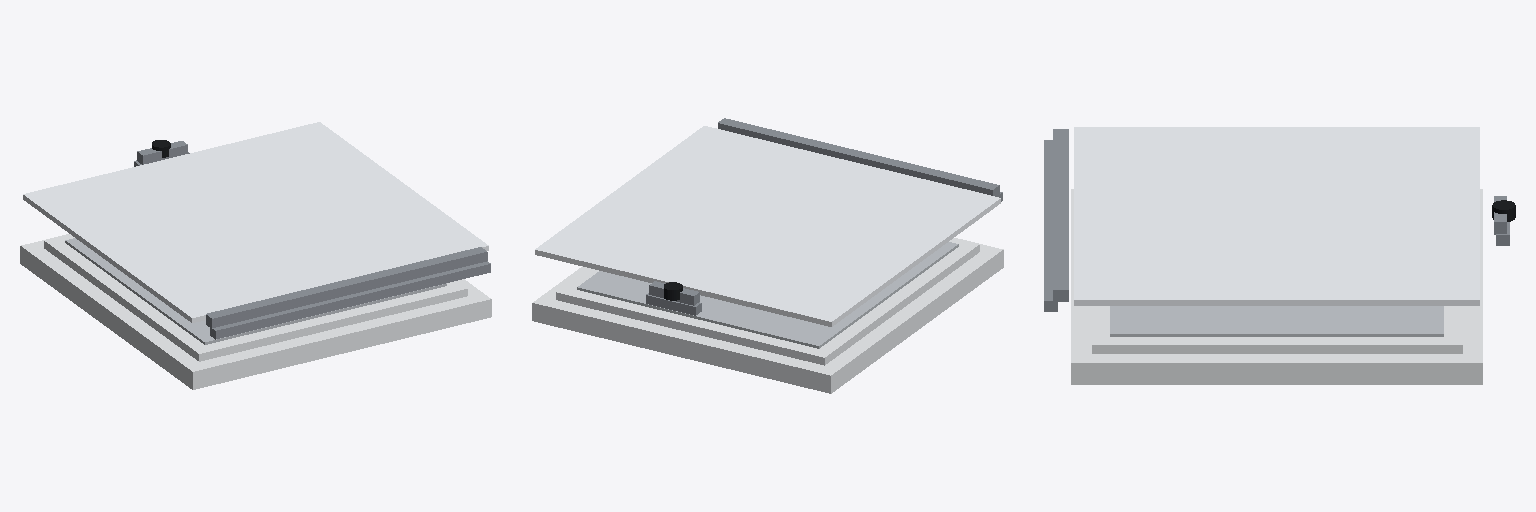
The robot description file, URDF, robot "hinged_ceiling_light_fixture":
<robot name="hinged_ceiling_light_fixture">
  <link name="ceiling_canopy">
    <inertial>
      <origin xyz="0 0 0.0115" rpy="0 0 0" />
      <mass value="0.9" />
      <inertia ixx="0.00366967" ixy="0" ixz="0" iyy="0.00366967" iyz="0" izz="0.00726" />
      </inertial>
    <visual name="ceiling_gasket">
      <origin xyz="0 0 0.0005" rpy="0 0 0" />
      <geometry>
        <box size="0.206 0.206 0.001" />
        </geometry>
      <material name="black_polymer">
        <color rgba="0.14 0.15 0.16 1" />
        </material>
      </visual>
    <visual name="junction_box_cover">
      <origin xyz="0 0 0.009" rpy="0 0 0" />
      <geometry>
        <box size="0.16 0.16 0.018" />
        </geometry>
      <material name="painted_white_metal">
        <color rgba="0.94 0.95 0.96 1" />
        </material>
      </visual>
    <visual name="canopy_trim_plate">
      <origin xyz="0 0 0.02" rpy="0 0 0" />
      <geometry>
        <box size="0.22 0.22 0.006" />
        </geometry>
      <material name="satin_aluminum">
        <color rgba="0.78 0.8 0.82 1" />
        </material>
      </visual>
    <visual name="left_mount_screw">
      <origin xyz="-0.048 0 0.004" rpy="0 0 0" />
      <geometry>
        <cylinder radius="0.007" length="0.003" />
        </geometry>
      <material name="brushed_steel">
        <color rgba="0.6 0.62 0.65 1" />
        </material>
      </visual>
    <visual name="right_mount_screw">
      <origin xyz="0.048 0 0.004" rpy="0 0 0" />
      <geometry>
        <cylinder radius="0.007" length="0.003" />
        </geometry>
      <material name="brushed_steel">
        <color rgba="0.6 0.62 0.65 1" />
        </material>
      </visual>
    </link>
  <link name="housing">
    <inertial>
      <origin xyz="0 0 0.0365" rpy="0 0 0" />
      <mass value="3.6" />
      <inertia ixx="0.0545187" ixy="0" ixz="0" iyy="0.0545187" iyz="0" izz="0.10584" />
      </inertial>
    <visual name="upper_pan">
      <origin xyz="0 0 0.0105" rpy="0 0 0" />
      <geometry>
        <box size="0.358 0.358 0.021" />
        </geometry>
      <material name="painted_white_metal">
        <color rgba="0.94 0.95 0.96 1" />
        </material>
      </visual>
    <visual name="side_frame">
      <origin xyz="0 0 0.02" rpy="0 0 0" />
      <geometry>
        <mesh filename="assets/meshes/housing_frame.obj" />
        </geometry>
      <material name="painted_white_metal">
        <color rgba="0.94 0.95 0.96 1" />
        </material>
      </visual>
    <visual name="trim_bezel">
      <origin xyz="0 0 0.054" rpy="0 0 0" />
      <geometry>
        <mesh filename="assets/meshes/bezel_ring.obj" />
        </geometry>
      <material name="satin_aluminum">
        <color rgba="0.78 0.8 0.82 1" />
        </material>
      </visual>
    <visual name="retaining_lip">
      <origin xyz="0 0 0.067" rpy="0 0 0" />
      <geometry>
        <mesh filename="assets/meshes/retaining_lip.obj" />
        </geometry>
      <material name="painted_white_metal">
        <color rgba="0.94 0.95 0.96 1" />
        </material>
      </visual>
    <visual name="reflector_pan">
      <origin xyz="0 0 0.025" rpy="0 0 0" />
      <geometry>
        <box size="0.322 0.322 0.01" />
        </geometry>
      <material name="painted_white_metal">
        <color rgba="0.94 0.95 0.96 1" />
        </material>
      </visual>
    <visual name="led_tray">
      <origin xyz="0 0 0.031" rpy="0 0 0" />
      <geometry>
        <box size="0.29 0.29 0.004" />
        </geometry>
      <material name="satin_aluminum">
        <color rgba="0.78 0.8 0.82 1" />
        </material>
      </visual>
    <visual name="driver_cover">
      <origin xyz="0 0 0.037" rpy="0 0 0" />
      <geometry>
        <box size="0.09 0.09 0.016" />
        </geometry>
      <material name="painted_white_metal">
        <color rgba="0.94 0.95 0.96 1" />
        </material>
      </visual>
    <visual name="hinge_rail">
      <origin xyz="0 -0.196 0.069" rpy="0 0 0" />
      <geometry>
        <box size="0.33 0.012 0.01" />
        </geometry>
      <material name="brushed_steel">
        <color rgba="0.6 0.62 0.65 1" />
        </material>
      </visual>
    <visual name="latch_strike">
      <origin xyz="0 0.196 0.069" rpy="0 0 0" />
      <geometry>
        <box size="0.06 0.012 0.01" />
        </geometry>
      <material name="brushed_steel">
        <color rgba="0.6 0.62 0.65 1" />
        </material>
      </visual>
    <visual name="left_hinge_cap">
      <origin xyz="-0.118 -0.196 0.069" rpy="0 0 0" />
      <geometry>
        <cylinder radius="0.006" length="0.01" />
        </geometry>
      <material name="brushed_steel">
        <color rgba="0.6 0.62 0.65 1" />
        </material>
      </visual>
    <visual name="right_hinge_cap">
      <origin xyz="0.118 -0.196 0.069" rpy="0 0 0" />
      <geometry>
        <cylinder radius="0.006" length="0.01" />
        </geometry>
      <material name="brushed_steel">
        <color rgba="0.6 0.62 0.65 1" />
        </material>
      </visual>
    </link>
  <link name="access_panel">
    <inertial>
      <origin xyz="0 0.194 0.01" rpy="0 0 0" />
      <mass value="1.1" />
      <inertia ixx="0.0138365" ixy="0" ixz="0" iyy="0.0141225" iyz="0" izz="0.0278857" />
      </inertial>
    <visual name="hinge_leaf">
      <origin xyz="0 0.006 0.006" rpy="0 0 0" />
      <geometry>
        <box size="0.33 0.014 0.012" />
        </geometry>
      <material name="brushed_steel">
        <color rgba="0.6 0.62 0.65 1" />
        </material>
      </visual>
    <visual name="service_frame">
      <origin xyz="0 0.194 0" rpy="0 0 0" />
      <geometry>
        <mesh filename="assets/meshes/access_frame.obj" />
        </geometry>
      <material name="satin_aluminum">
        <color rgba="0.78 0.8 0.82 1" />
        </material>
      </visual>
    <visual name="diffuser_panel">
      <origin xyz="0 0.194 0.005" rpy="0 0 0" />
      <geometry>
        <box size="0.356 0.352 0.006" />
        </geometry>
      <material name="frosted_acrylic">
        <color rgba="0.96 0.97 0.99 0.48" />
        </material>
      </visual>
    <visual name="latch_tab">
      <origin xyz="0 0.388 0.006" rpy="0 0 0" />
      <geometry>
        <box size="0.054 0.012 0.012" />
        </geometry>
      <material name="brushed_steel">
        <color rgba="0.6 0.62 0.65 1" />
        </material>
      </visual>
    <visual name="finger_pull">
      <origin xyz="0 0.391 0.01" rpy="0 0 0" />
      <geometry>
        <cylinder radius="0.01" length="0.012" />
        </geometry>
      <material name="black_polymer">
        <color rgba="0.14 0.15 0.16 1" />
        </material>
      </visual>
    </link>
  <joint name="canopy_to_housing" type="fixed">
    <origin xyz="0 0 0.023" rpy="0 0 0" />
    <parent link="ceiling_canopy" />
    <child link="housing" />
    </joint>
  <joint name="service_hinge" type="revolute">
    <origin xyz="0 -0.194 0.073" rpy="0 0 0" />
    <parent link="housing" />
    <child link="access_panel" />
    <axis xyz="1 0 0" />
    <limit effort="10" velocity="1.5" lower="0" upper="1.55" />
    </joint>
  </robot>

--- Facts derived from the render (not from the file) ---
Views: 3 orthographic renders of the robot side by side, from view 1: azimuth 30°, elevation 25°; view 2: azimuth 150°, elevation 25°; view 3: azimuth 270°, elevation 25°.
Model hinged_ceiling_light_fixture with 3 links and 2 joints (1 revolute, 1 fixed), rooted at ceiling_canopy, posed every joint at zero.
Links seen in each view (by area): view 1: access_panel, housing; view 2: access_panel, housing; view 3: access_panel, housing.
Link boxes in pixels (x1,y1,x2,y2): access_panel: (23, 122, 488, 327); housing: (20, 152, 491, 389); access_panel: (535, 118, 1000, 326); housing: (532, 192, 1003, 393); access_panel: (1053, 127, 1515, 305); housing: (1044, 140, 1509, 384).
Bounding box of the posed robot: 0.358 × 0.409 × 0.112 m (x, y, z).
Meshes: 4 distinct files referenced, 0 mesh visuals loaded (none loaded); not drawn: 4 (reference not matched to a file when rendering).
